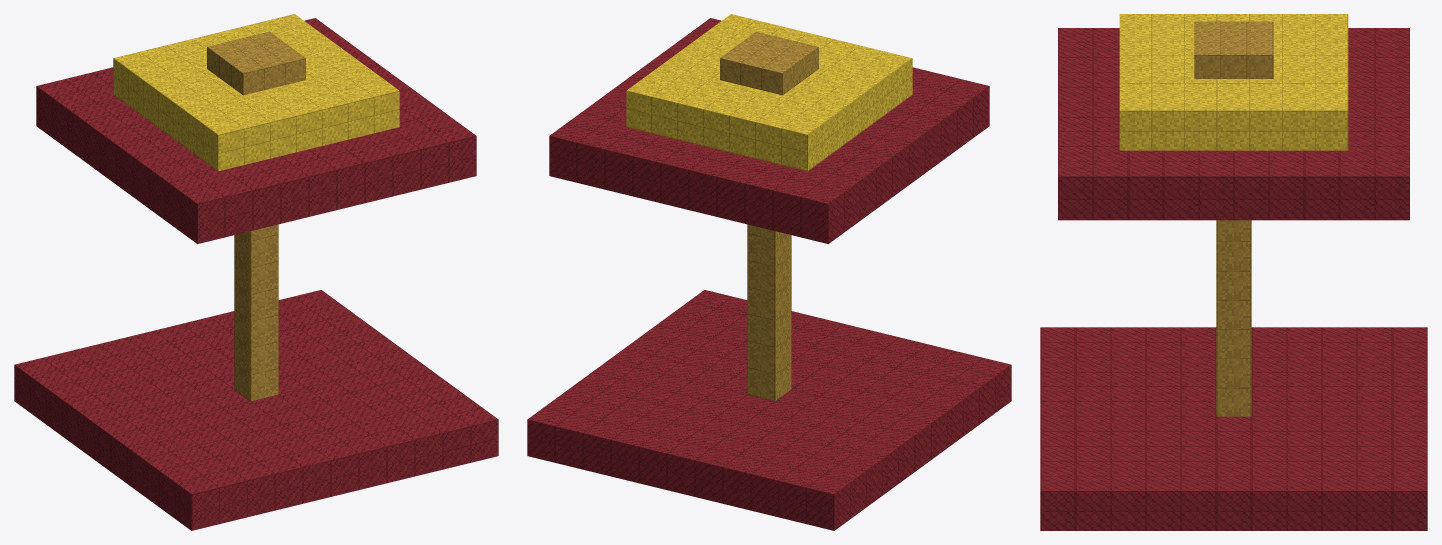
Rendered from carouselCenterpiece.glb.
The picture shows the model from 3 angles, left to right: view 1: azimuth 30°, elevation 25°; view 2: azimuth 150°, elevation 25°; view 3: azimuth 270°, elevation 25°; orthographic projection. The views are drawn at different scales.
Visible parts, largest first — view 1: carouselCenterpiece_0; view 2: carouselCenterpiece_0; view 3: carouselCenterpiece_0.
Boxes of the visible parts, bbox=[...] form: carouselCenterpiece_0: bbox=[14, 14, 498, 530]; carouselCenterpiece_0: bbox=[527, 14, 1011, 530]; carouselCenterpiece_0: bbox=[1040, 14, 1427, 530].
Size of the model in its own units: 5.5 by 6.44 by 5.5.
1 material, 1 textured.
